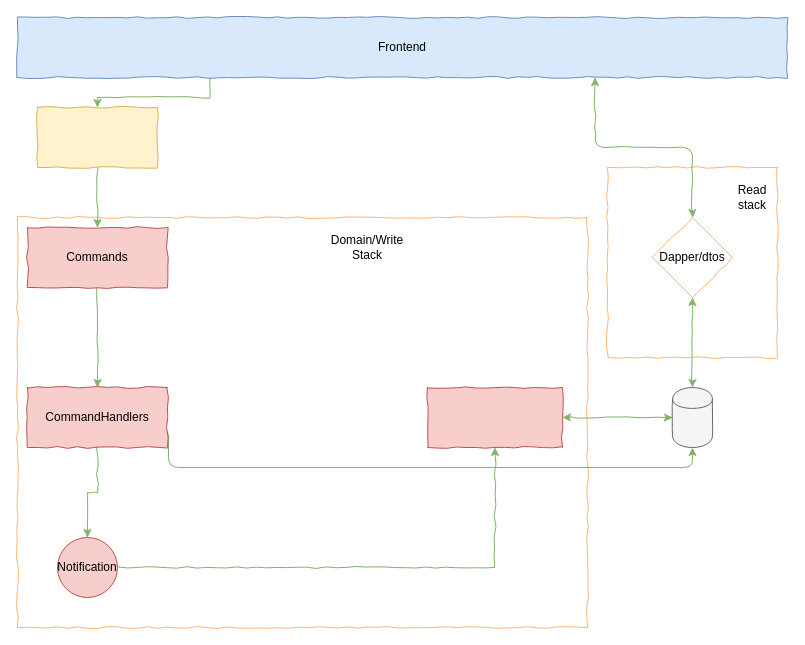
The diagram is 805 pixels wide and 645 high, and some of its shapes have lost their labels. Here are the shapes that lost their labels. From the top down, the centre of each, then its label:
At pixel 97 137: "Controllers".
At pixel 494 417: "NotificationHandler".
